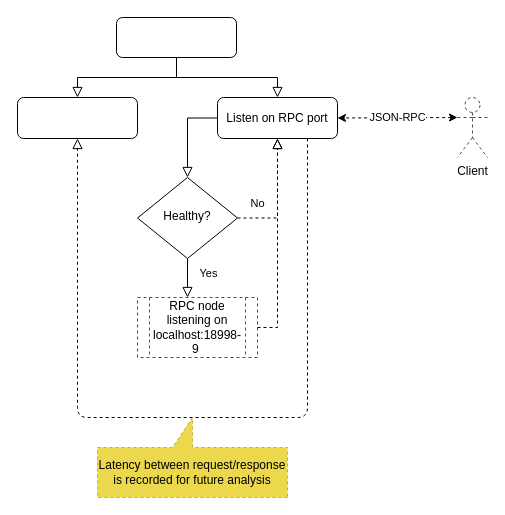
The diagram is 505 pixels wide and 515 high, and some of its shapes have lost their labels. The shapes that lost their labels are listed below. From the top down, each one's centre as x and y in pixels, then its label:
pixel 176 37: Start
pixel 77 117: Metrics & Tracing
